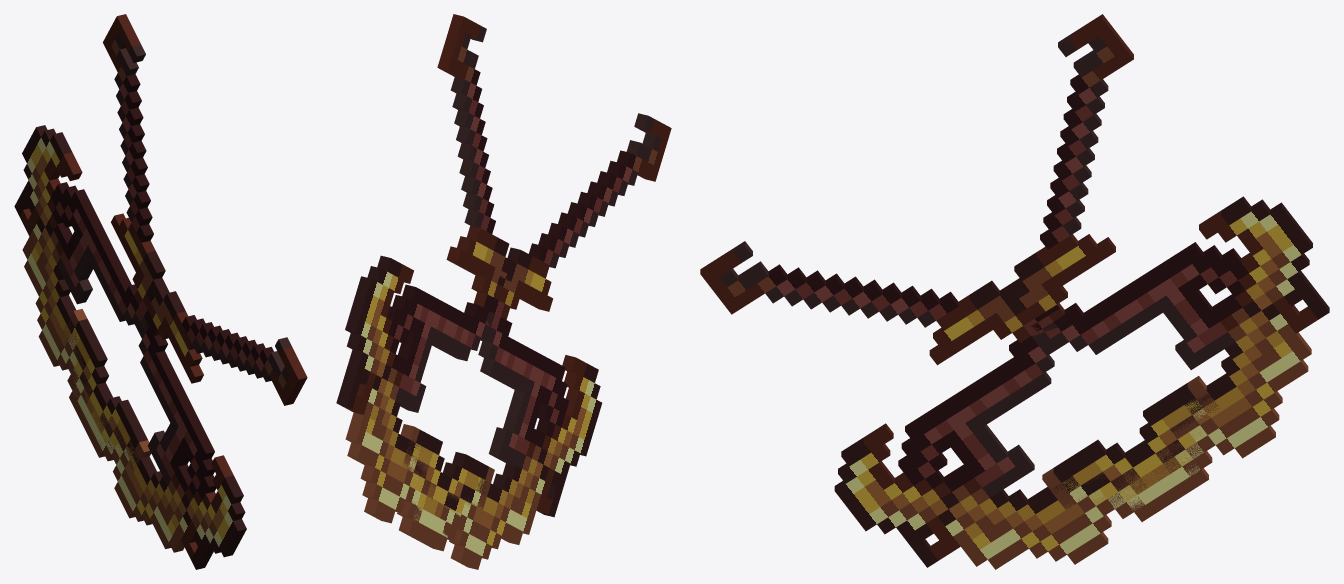
Rendered from hellrazor.glb.
3 renders of one model, left to right at view 1: azimuth 30°, elevation 25°; view 2: azimuth 150°, elevation 25°; view 3: azimuth 270°, elevation 25°, orthographic. The views are drawn at different scales.
Parts seen in each view (by area): view 1: off__Tool_L, main__Tool_R; view 2: main__Tool_R, off__Tool_L; view 3: main__Tool_R, off__Tool_L.
Boxes of the visible parts, bbox=[...] form: off__Tool_L: bbox=[63, 14, 246, 569]; main__Tool_R: bbox=[14, 125, 307, 471]; main__Tool_R: bbox=[336, 113, 671, 551]; off__Tool_L: bbox=[397, 14, 602, 569]; main__Tool_R: bbox=[700, 196, 1329, 521]; off__Tool_L: bbox=[834, 14, 1219, 569].
Bounding box in the file's own units: 0.0531 × 2.79 × 2.88.
Materials: 1 (1 with a texture image).
